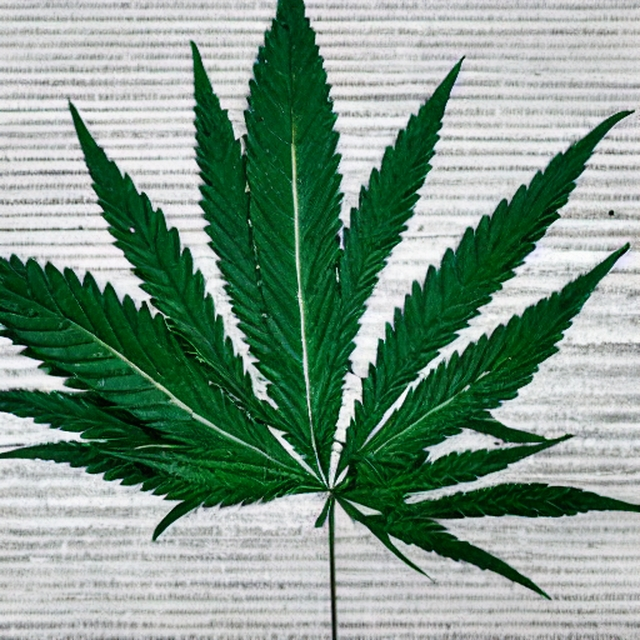Marijuana Leaf: (0, 0, 639, 636)
